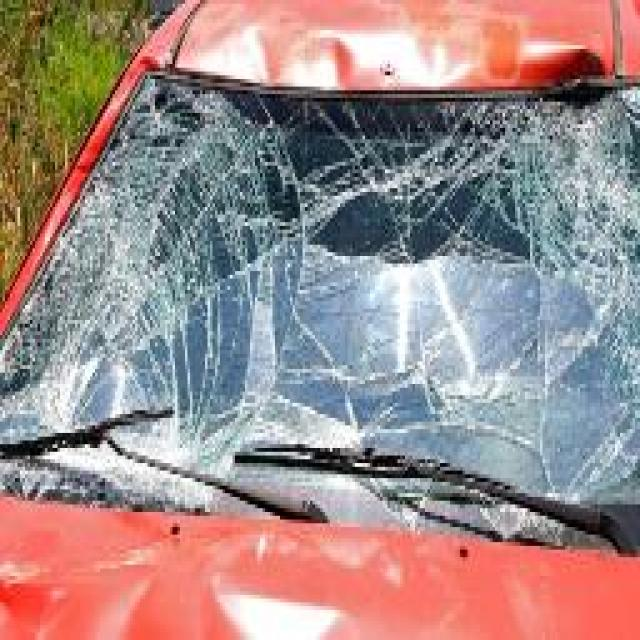Windshield: (0, 64, 640, 553)
